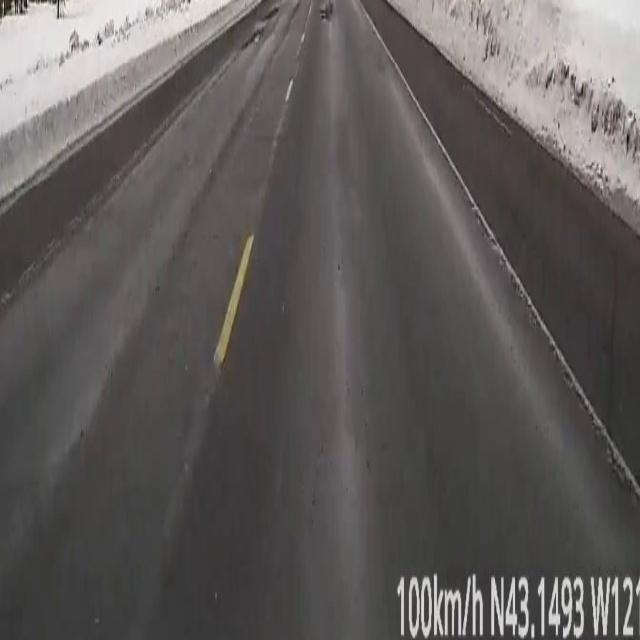pothole: (244, 26, 264, 47), (265, 6, 278, 18)
